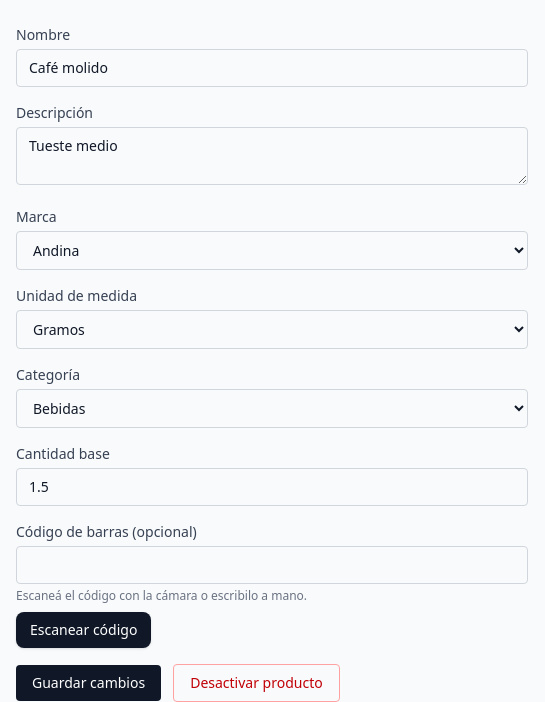
it: ProductFormPage (PROD-2/PROD-3 · §S2 fila Product form) › si la desactivación falla, el error es amigable y no se navega
(page scrolled)
Click the button "Desactivar producto" at [256, 683], box [173,664,340,701]
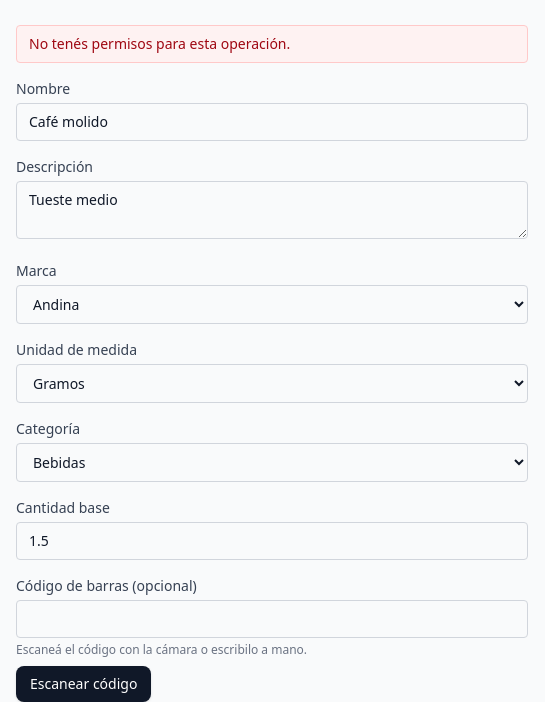
Result: the message reads "No tenés permisos para esta operación." at [29,34,290,53]
